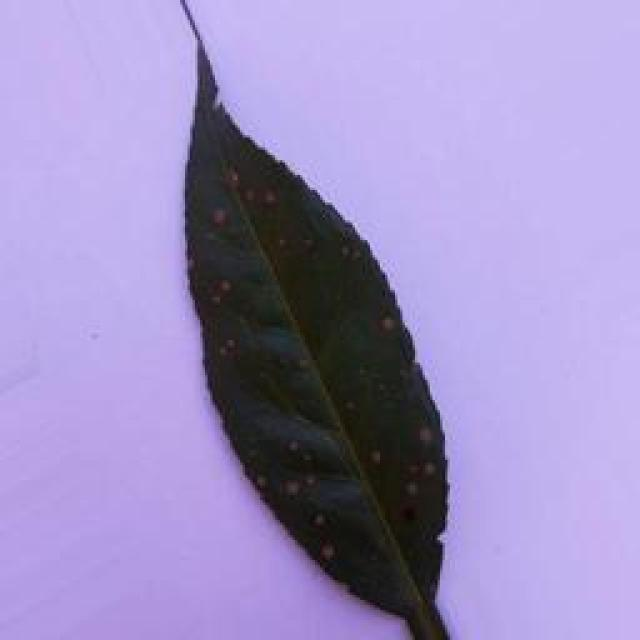Algal Leaf Spot: (185, 47, 460, 620)
